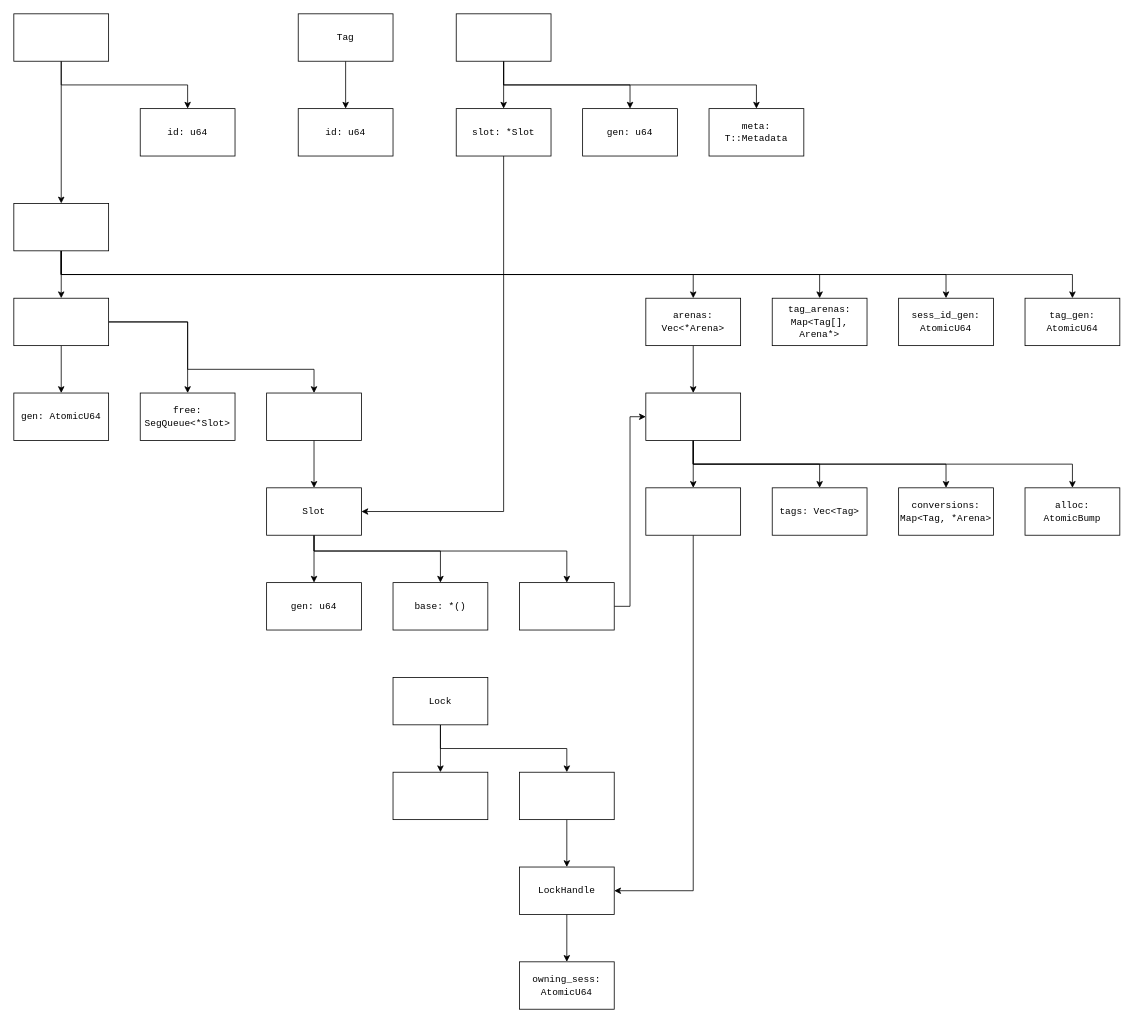
The diagram is 1134 pixels wide and 1023 high, and some of its shapes have lost their labels. Here are the shapes that lost their labels. From the top down, the centre of each, then its label:
At point 61,37: "Session".
At point 503,37: "Obj".
At point 61,227: "ObjectDB".
At point 61,321: "slots: AtomicFreeList".
At point 313,416: "bump: AtomicBump".
At point 693,416: "Arena".
At point 693,511: "lock: Arc<LockHandle>".
At point 566,606: "arena: *Arena".
At point 440,795: "borrowed_gens: Vec<u64>".
At point 566,795: "handle: Arc<LockHandle>".
